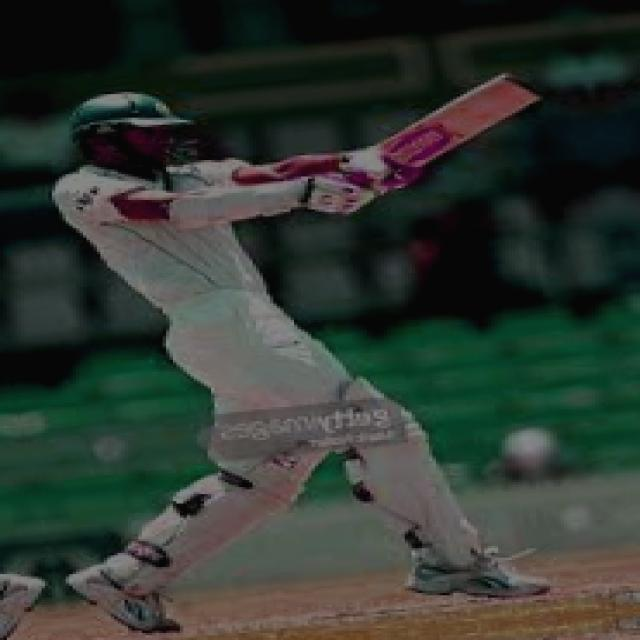toe: (495, 66, 549, 104)
